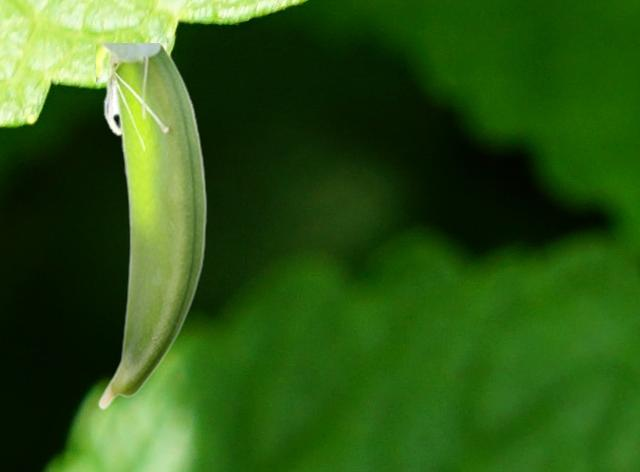pea: (96, 43, 209, 409)
